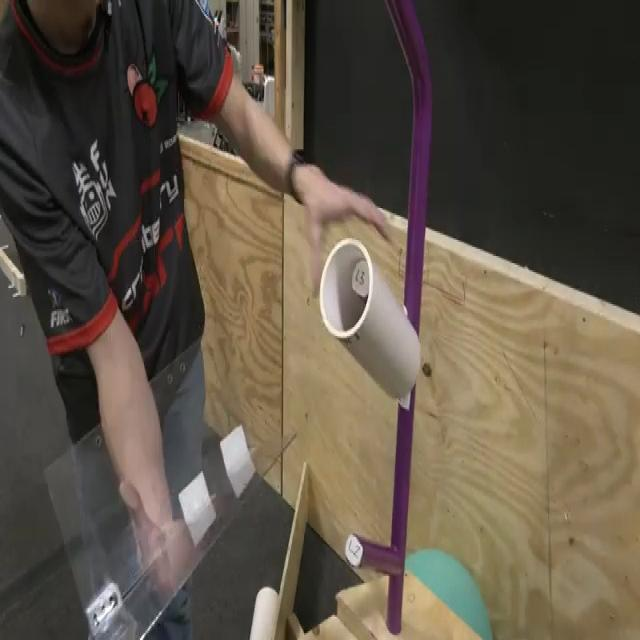Coral: (318, 235, 421, 402)
